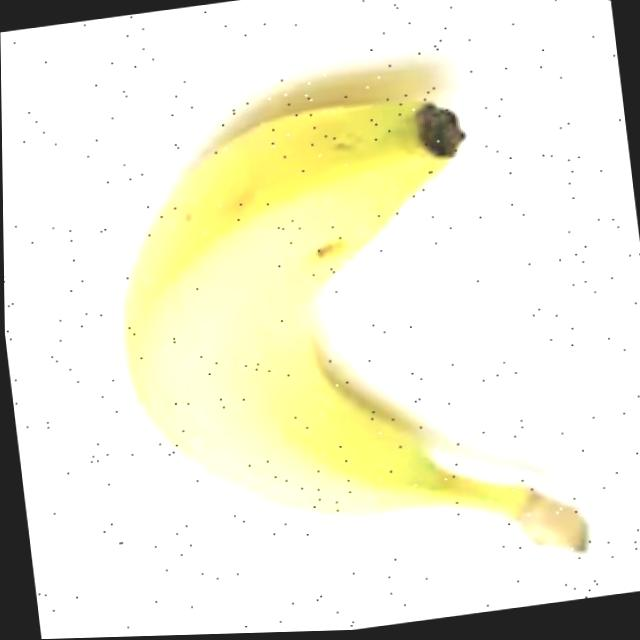Banana: (98, 79, 592, 615)
